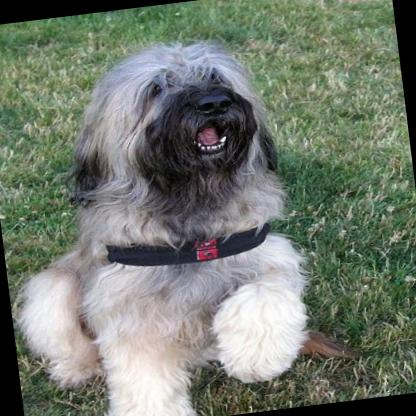briard: (0, 28, 322, 416)
